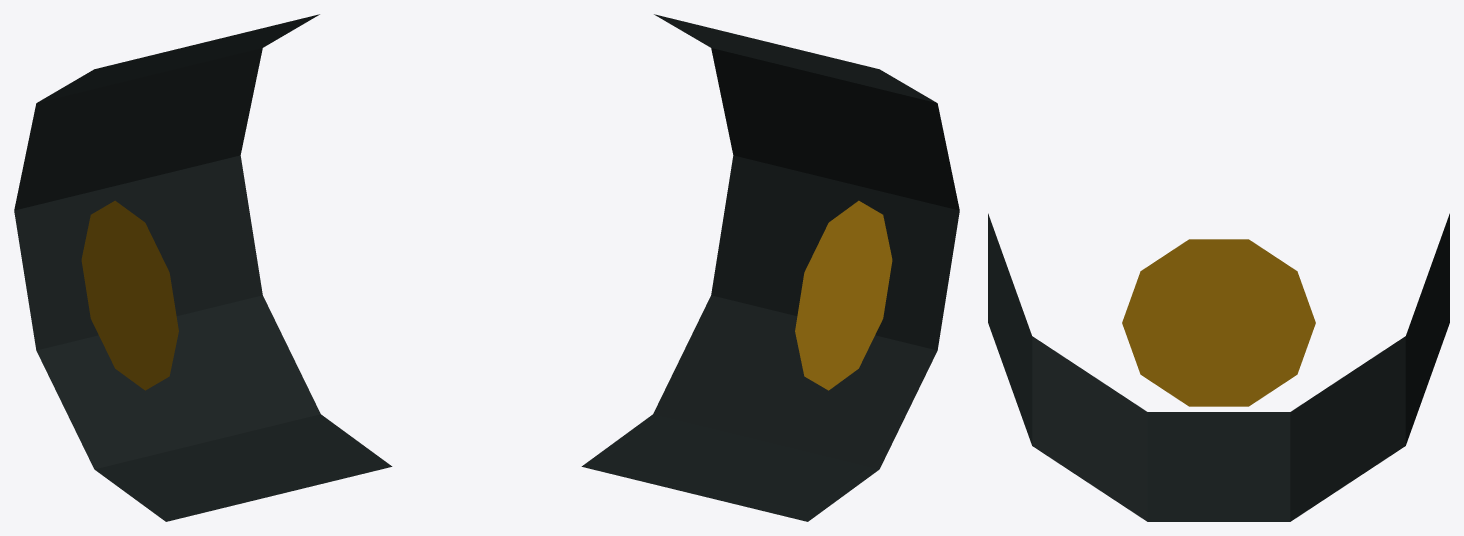
Rendered from f1_psx_candidate_wheel_rear.glb.
3 views of the same model, side by side, from view 1: azimuth 30°, elevation 25°; view 2: azimuth 150°, elevation 25°; view 3: azimuth 270°, elevation 25° (orthographic).
Visible parts, largest first — view 1: tire, rim; view 2: tire, rim; view 3: tire, rim.
Part boxes in pixels (x1,y1,x2,y2): tire: (14, 14, 392, 521); rim: (81, 200, 178, 390); tire: (581, 14, 959, 521); rim: (795, 200, 892, 390); tire: (988, 213, 1449, 521); rim: (1122, 239, 1315, 406).
Bounding box in the file's own units: 0.4 × 0.6753 × 0.71.
